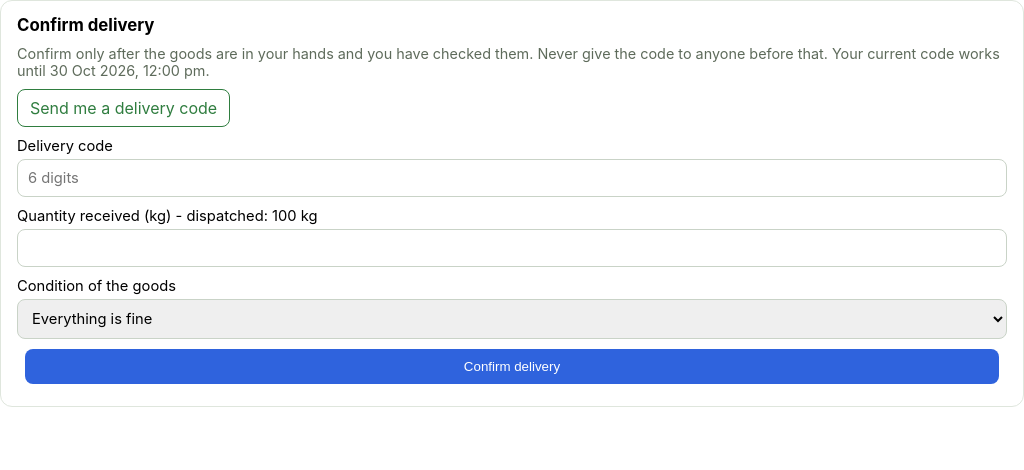
Test: the quantity is required and a code must be six digits (nothing is sent)
Type "12" into the field labelled "Delivery code" at {"x": 512, "y": 178}, box [17, 159, 1007, 197]
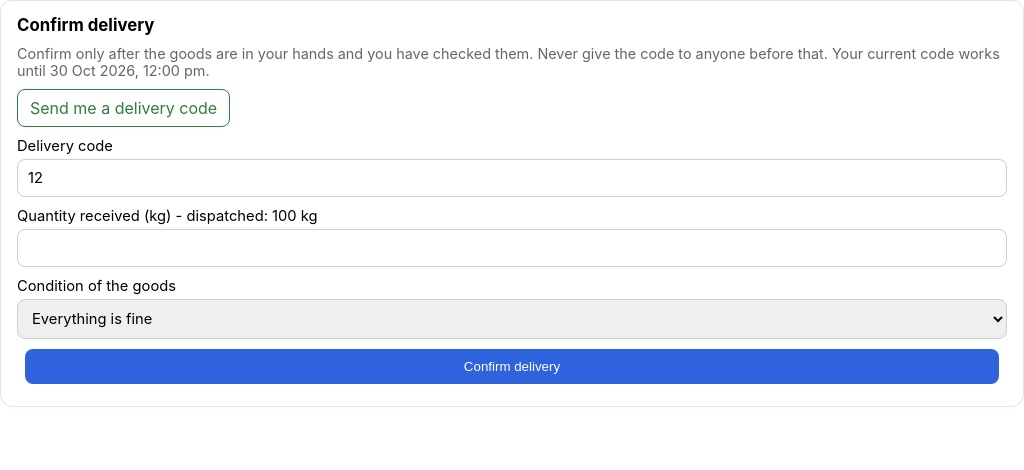
Click the button "Confirm delivery" at {"x": 512, "y": 366}, box [25, 349, 999, 384]
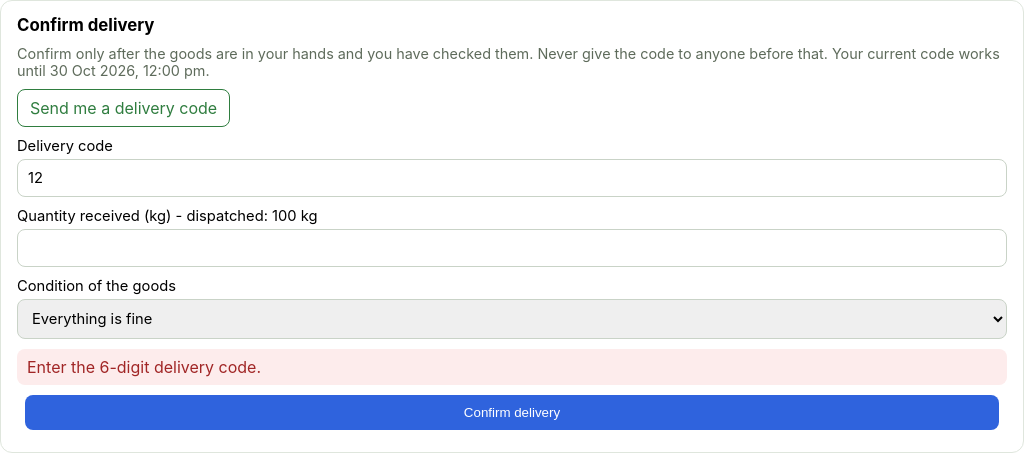
Expected: the message shows "6-digit", [27, 357, 261, 377]
